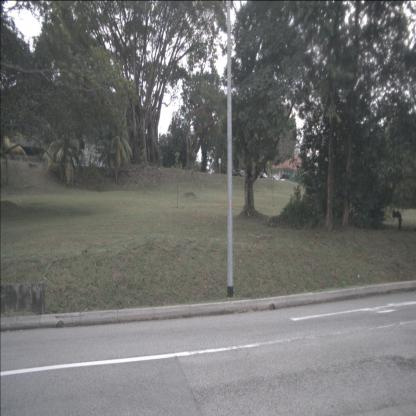vehicle-car: (231, 169, 245, 177)
